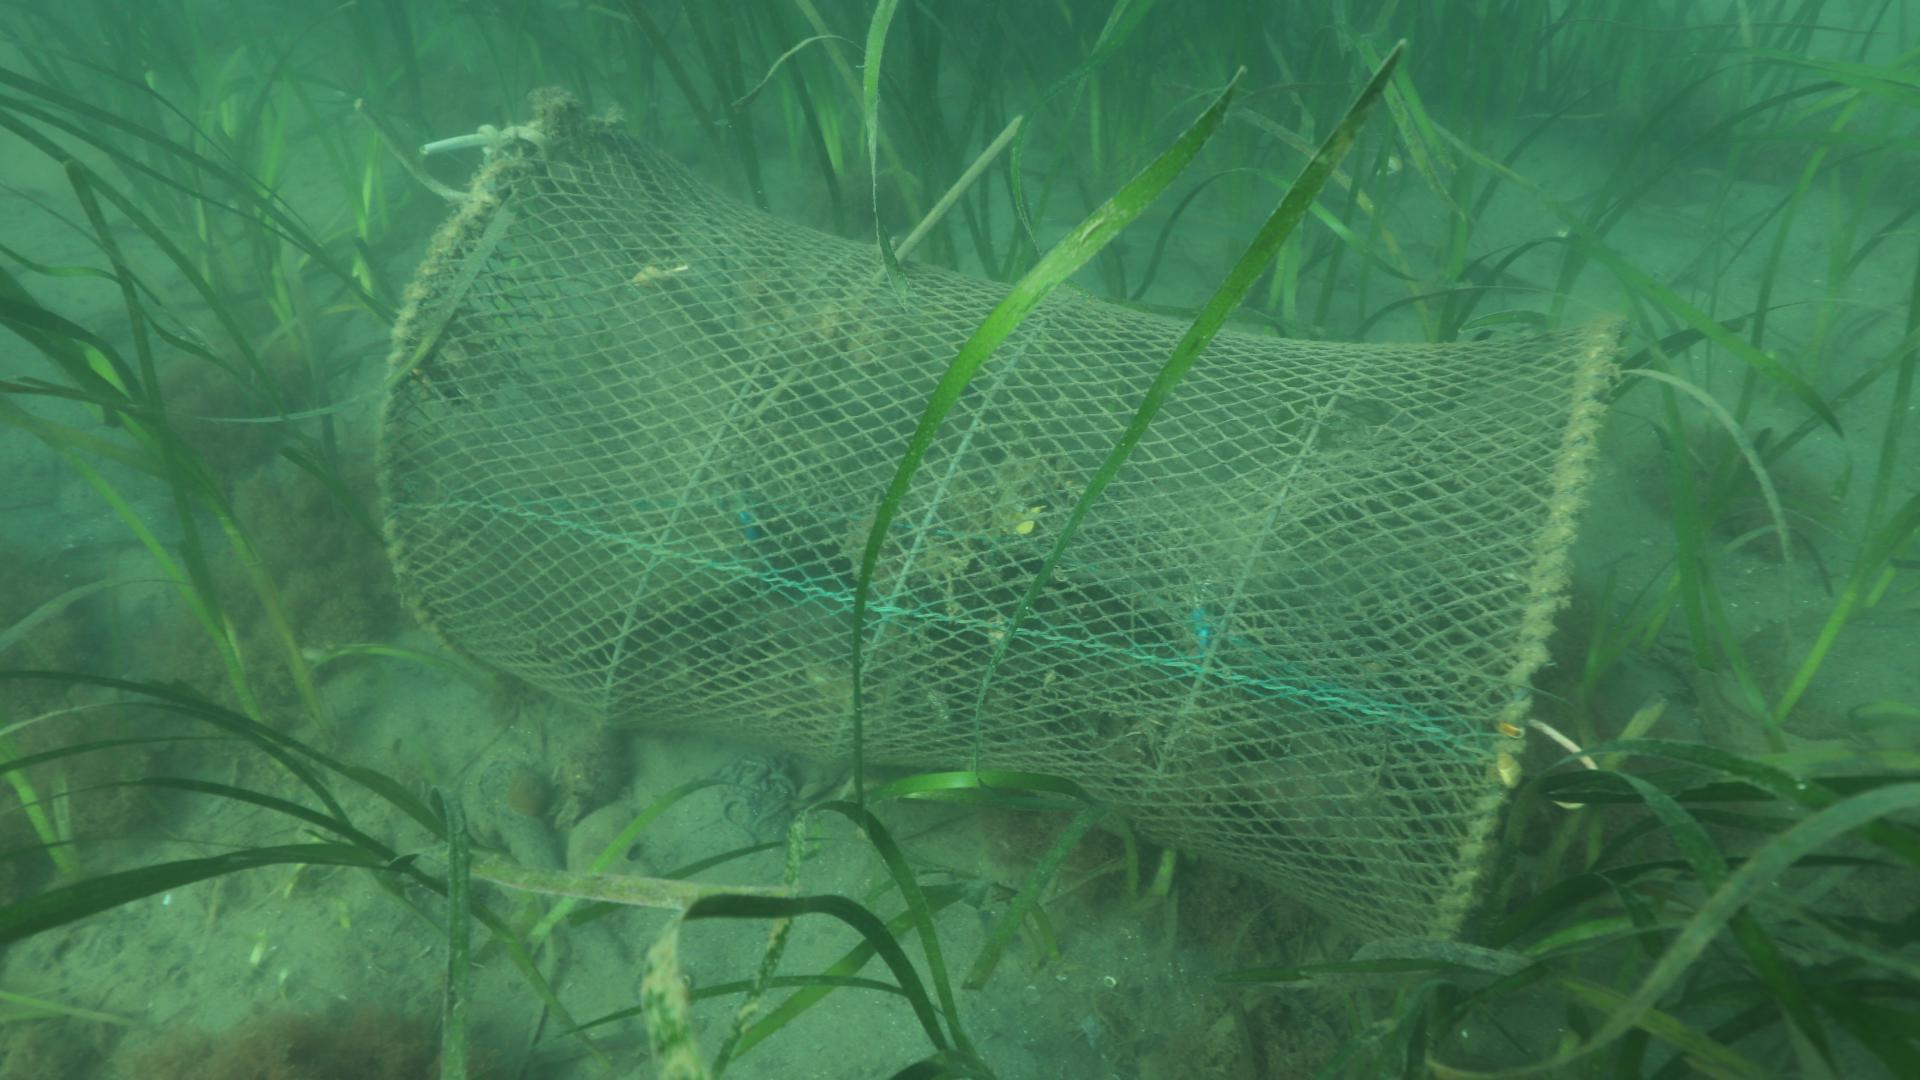spring fish trap: (371, 94, 1623, 963)
